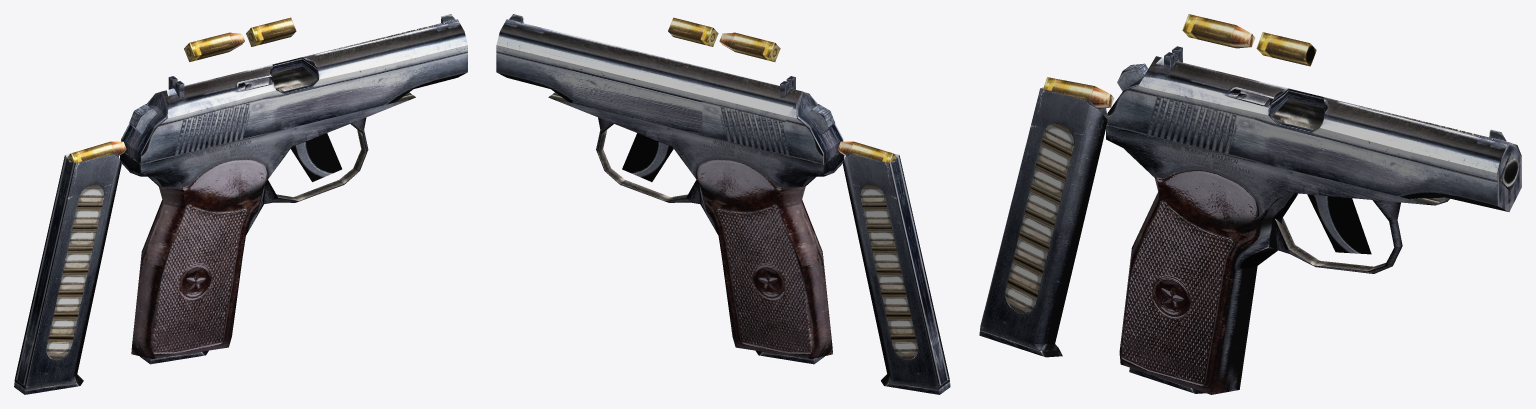
File: Makarov.obj
3 views of the same model, side by side, from view 1: azimuth 30°, elevation 25°; view 2: azimuth 150°, elevation 25°; view 3: azimuth 330°, elevation 25° (orthographic). The views are drawn at different scales.
Parts seen in each view (by area): view 1: Makarov_Body, Makarov_Slide, Makarov_Mag_Full, Makarov_Hammer, 380, 380_Shell; view 2: Makarov_Body, Makarov_Slide, Makarov_Mag_Full, Makarov_Hammer, 380, 380_Shell; view 3: Makarov_Body, Makarov_Slide, Makarov_Mag_Full, Makarov_Hammer, 380, 380_Shell.
Part boxes in pixels (left/top/right/bottom): Makarov_Body: left=120, top=66, right=415, bottom=358; Makarov_Slide: left=121, top=14, right=467, bottom=164; Makarov_Mag_Full: left=14, top=141, right=126, bottom=394; Makarov_Hammer: left=129, top=104, right=341, bottom=181; 380: left=184, top=32, right=244, bottom=61; 380_Shell: left=246, top=17, right=296, bottom=46; Makarov_Body: left=548, top=92, right=844, bottom=358; Makarov_Slide: left=496, top=14, right=843, bottom=164; Makarov_Mag_Full: left=837, top=141, right=950, bottom=394; Makarov_Hammer: left=622, top=104, right=834, bottom=181; 380: left=719, top=32, right=780, bottom=61; 380_Shell: left=668, top=17, right=718, bottom=46; Makarov_Body: left=1106, top=100, right=1521, bottom=394; Makarov_Slide: left=1107, top=46, right=1521, bottom=211; Makarov_Mag_Full: left=979, top=77, right=1113, bottom=357; Makarov_Hammer: left=1117, top=63, right=1371, bottom=254; 380: left=1182, top=14, right=1254, bottom=48; 380_Shell: left=1256, top=32, right=1316, bottom=66.
Bounding box in the file's own units: 2.11 × 1.44 × 0.1717.
4 materials, 4 textured.
